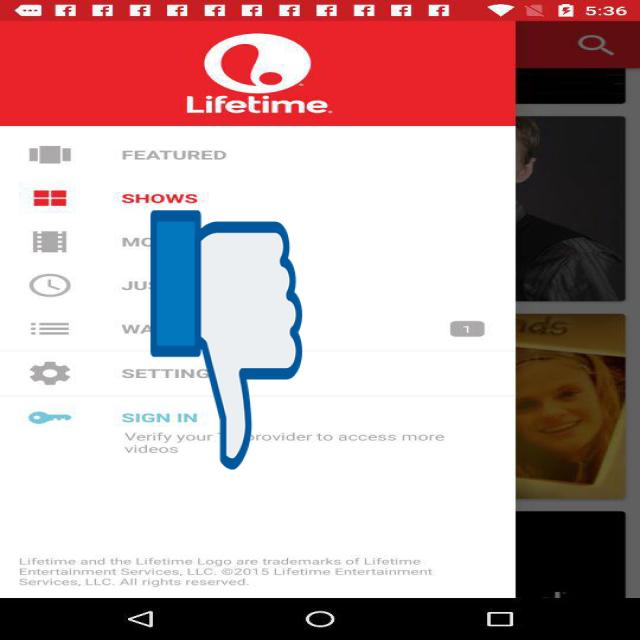obstruction: (151, 205, 302, 475)
